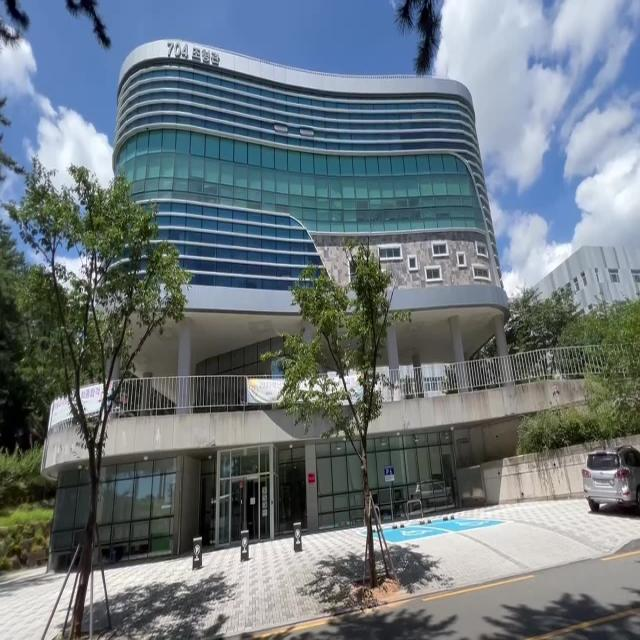building: (121, 31, 515, 323)
